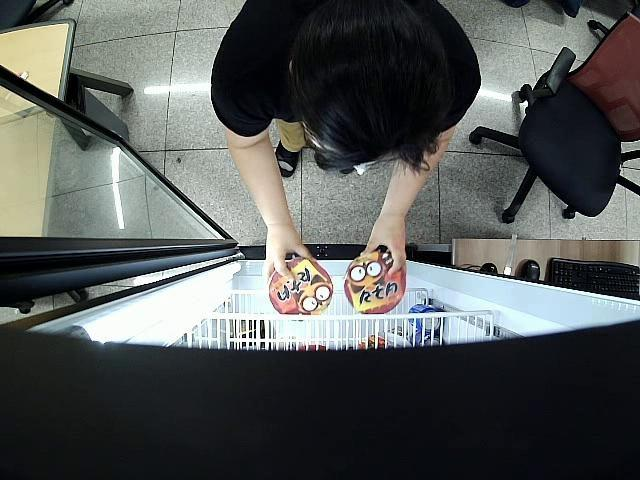05_nuguri_L: (269, 259, 334, 317), (346, 252, 406, 312)
